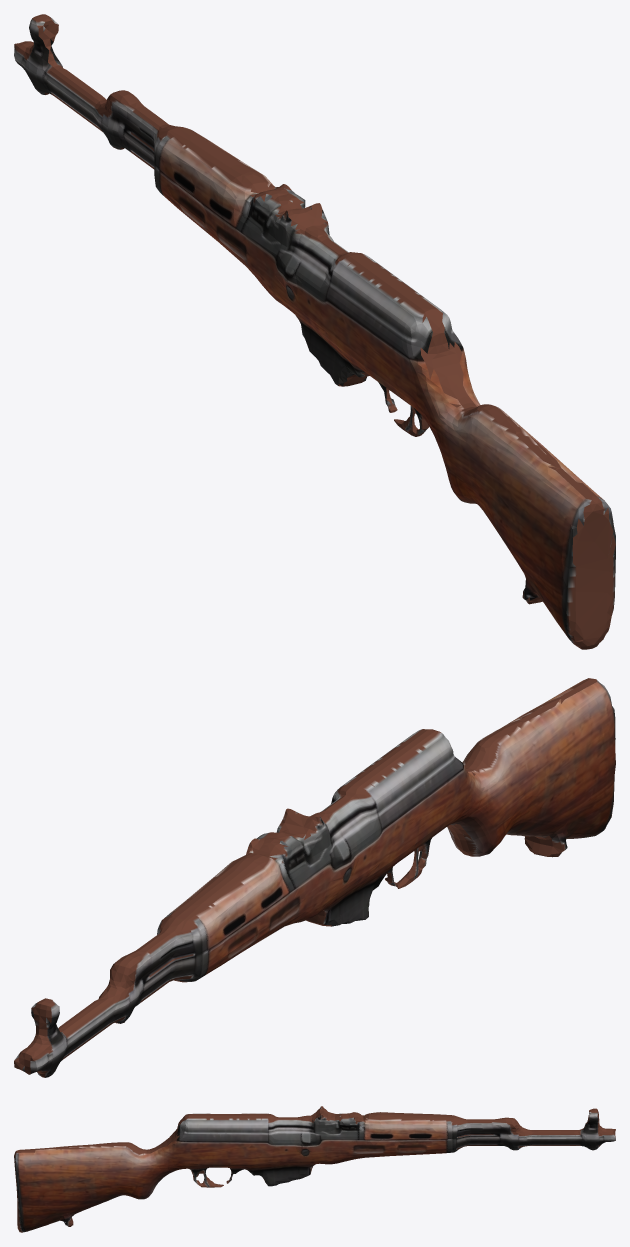
Rendered from sks.glb.
3 renders of one model, top to bottom at view 1: azimuth 30°, elevation 25°; view 2: azimuth 150°, elevation 25°; view 3: azimuth 270°, elevation 25°, orthographic. The views are drawn at different scales.
Parts seen in each view (by area): view 1: Mesh_0; view 2: Mesh_0; view 3: Mesh_0.
Part boxes in pixels (<box>): Mesh_0: <box>14,14,615,649</box>; Mesh_0: <box>14,678,615,1077</box>; Mesh_0: <box>14,1106,615,1232</box>.
Bounding box in the file's own units: 0.0625 × 0.2278 × 1.02.
Materials: 1 (1 with a texture image).
